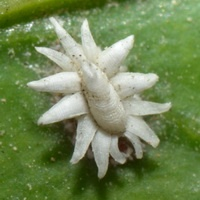insect: (27, 17, 170, 177)
